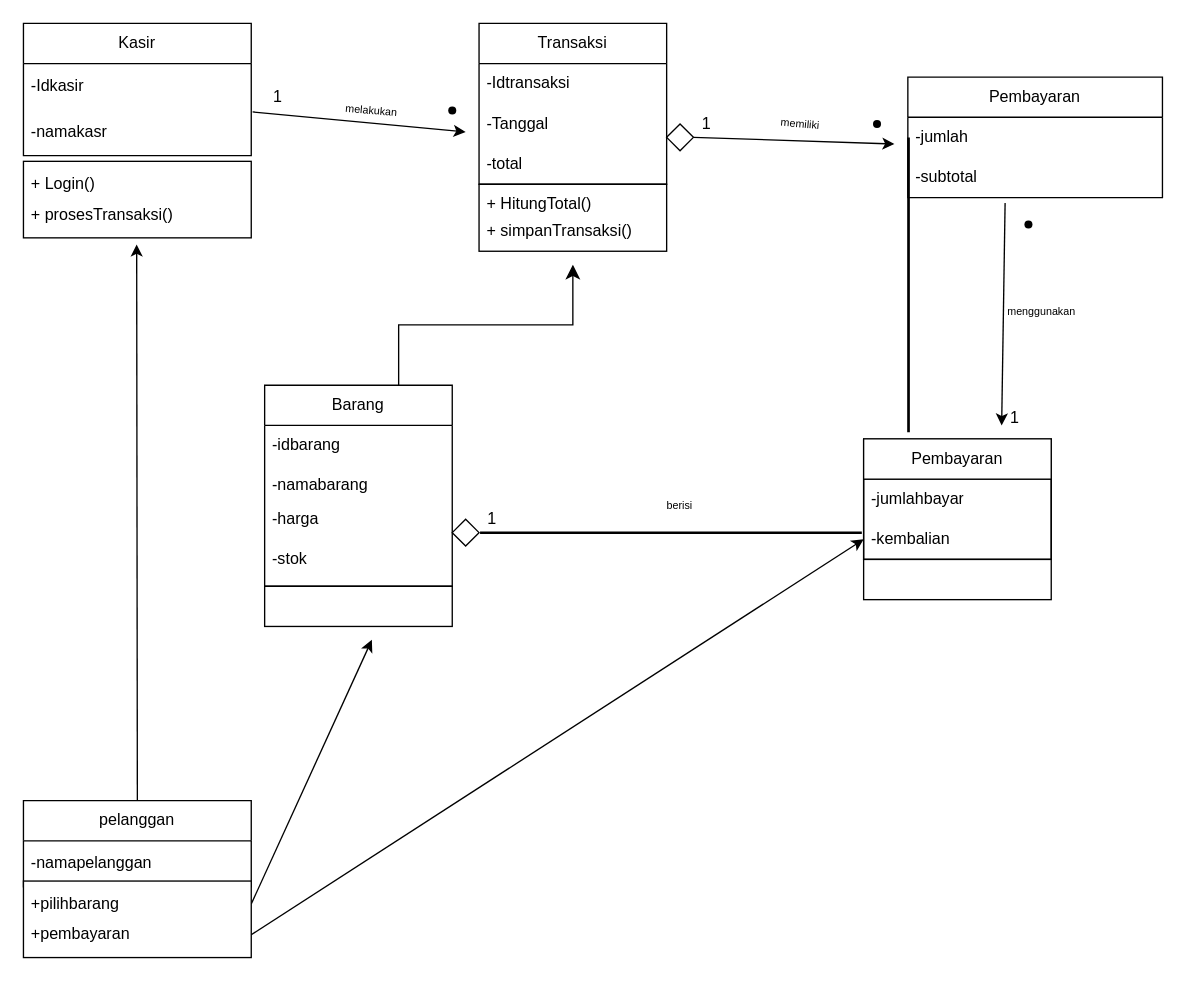
The diagram is 1197 pixels wide and 982 high, and some of its shapes have lost their labels. Each missing label, with the box of its shape:
+getdatabarang(): (263, 585, 452, 626)
+hitungkembalian: (862, 558, 1051, 600)
